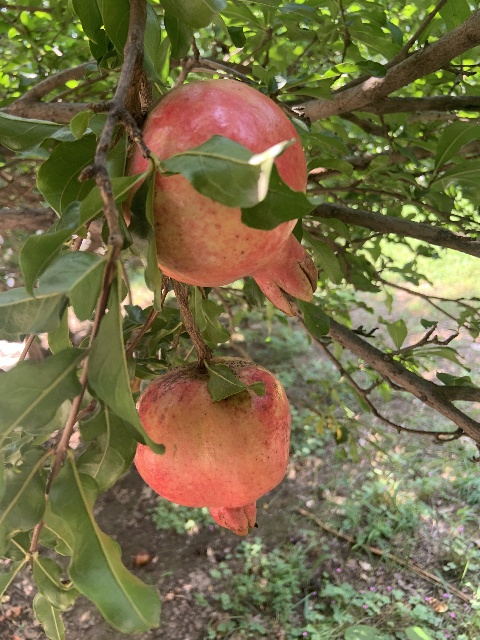ripe: (122, 79, 316, 315), (133, 360, 290, 536)
